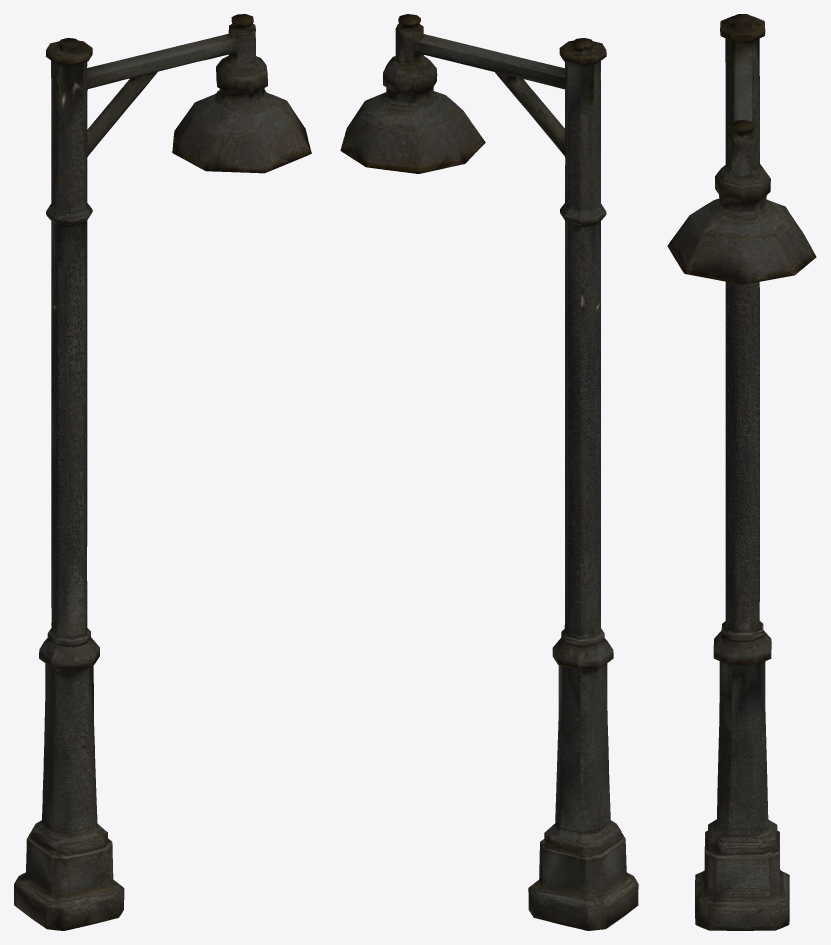
Rendered from Farola.glb.
3 views of the same model, side by side, from view 1: azimuth 30°, elevation 25°; view 2: azimuth 150°, elevation 25°; view 3: azimuth 270°, elevation 25° (orthographic). The views are drawn at different scales.
Parts seen in each view (by area): view 1: node_0; view 2: node_0; view 3: node_0.
Boxes of the visible parts, box(x1,y1,x2,y2) form: node_0: box(14, 14, 311, 930); node_0: box(340, 14, 638, 930); node_0: box(667, 14, 816, 930).
Bounding box in the file's own units: 0.3791 × 1.14 × 0.1723.
1 material, 1 textured.
